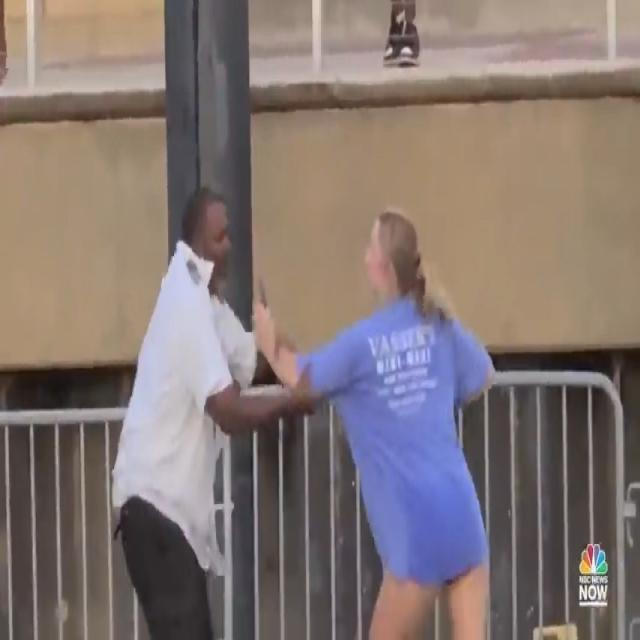fight: (100, 170, 511, 640)
